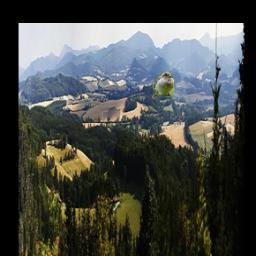Sparrow: (153, 72, 174, 97)
